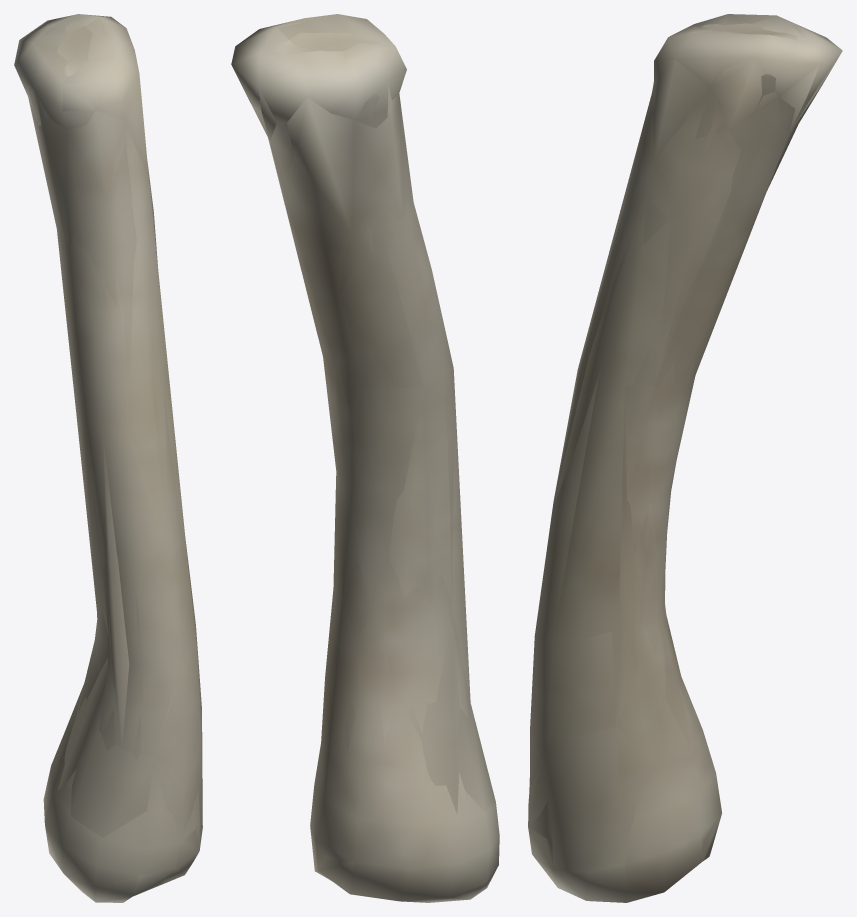
Rendered from R metacarpi tertium.fbx.
The picture shows the model from 3 angles, left to right: view 1: azimuth 30°, elevation 25°; view 2: azimuth 150°, elevation 25°; view 3: azimuth 270°, elevation 25°; orthographic projection. The views are drawn at different scales.
Visible parts, largest first — view 1: R metacarpi tertium, R metacarpi tertium low, R metacarpi tertium high; view 2: R metacarpi tertium, R metacarpi tertium low, R metacarpi tertium high; view 3: R metacarpi tertium low, R metacarpi tertium, R metacarpi tertium high.
Part boxes in pixels (x1,y1,x2,y2): R metacarpi tertium: (14, 14, 201, 902); R metacarpi tertium low: (17, 14, 202, 900); R metacarpi tertium high: (27, 19, 169, 817); R metacarpi tertium: (231, 14, 499, 902); R metacarpi tertium low: (240, 14, 495, 898); R metacarpi tertium high: (271, 32, 468, 806); R metacarpi tertium low: (528, 15, 840, 898); R metacarpi tertium: (528, 14, 842, 902); R metacarpi tertium high: (570, 23, 798, 782).
Size of the model in its own units: 0.3013 by 1.68 by 0.5485.
Materials: 1 (1 with a texture image).
